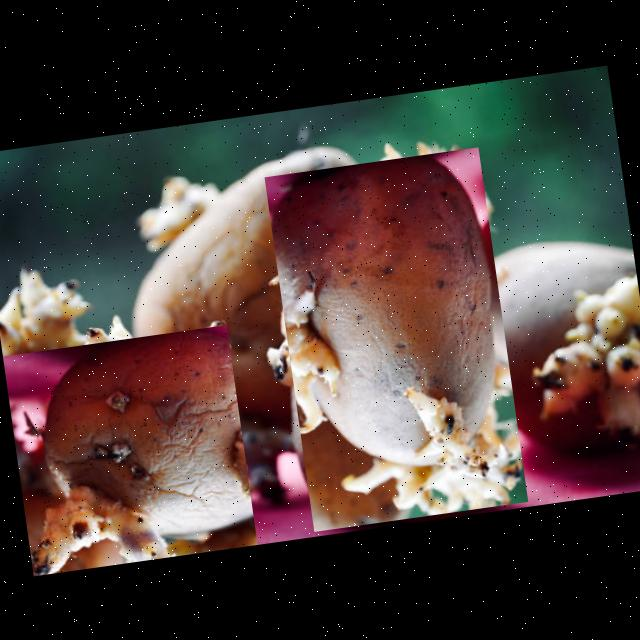Sprouted potato: (264, 146, 528, 531), (429, 192, 640, 504), (2, 324, 256, 576)
